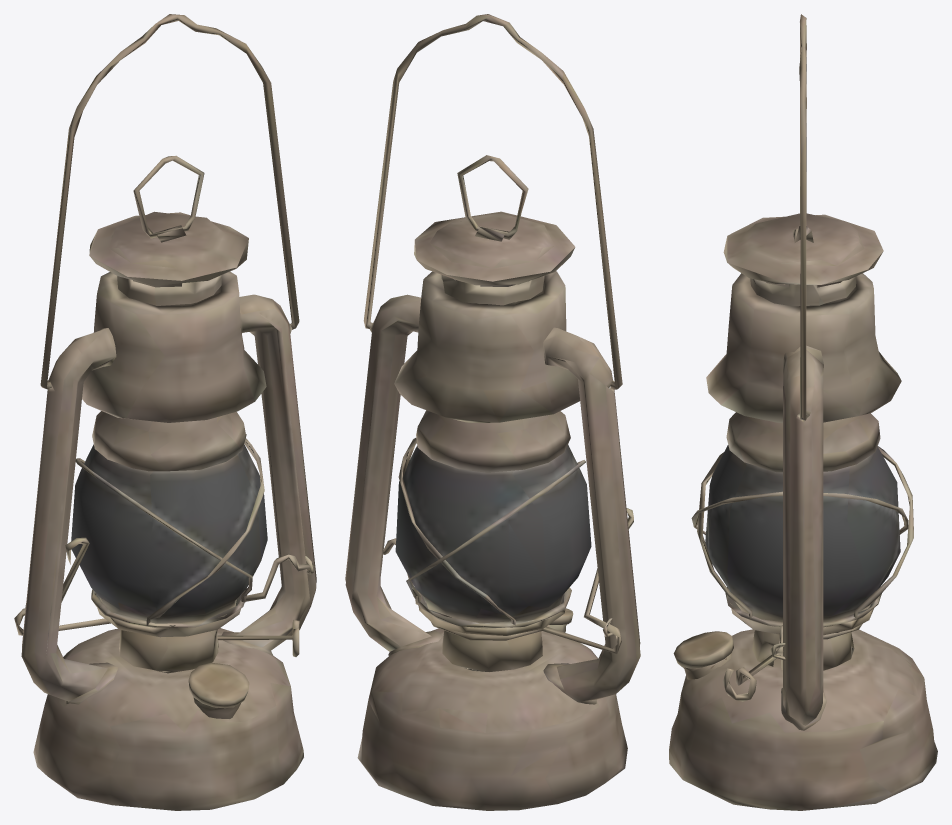
The model's file is lantern.glb.
3 renders of one model, left to right at view 1: azimuth 30°, elevation 25°; view 2: azimuth 150°, elevation 25°; view 3: azimuth 270°, elevation 25°, orthographic.
Visible parts, largest first — view 1: low; view 2: low; view 3: low.
Boxes of the visible parts, x1,y1,x2,y2 form: low: [14, 14, 316, 810]; low: [345, 14, 640, 810]; low: [669, 14, 937, 810].
Bounding box in the file's own units: 0.1879 × 0.4499 × 0.1485.
Materials: 1 (1 with a texture image).
